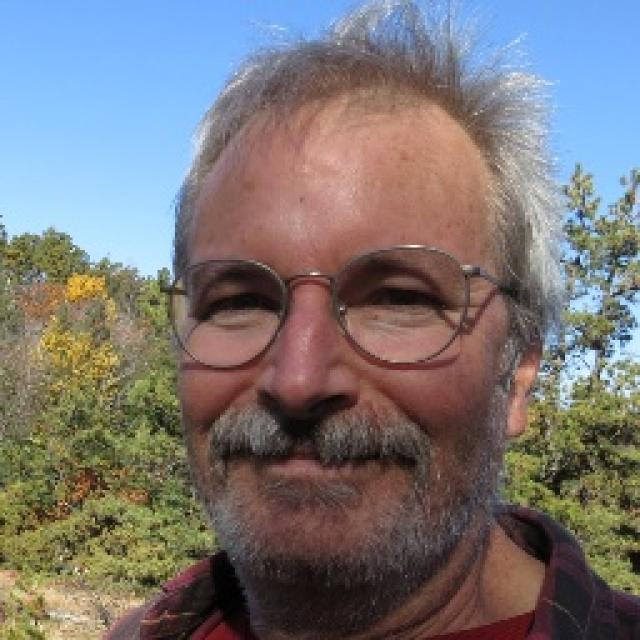earlobe: (504, 403, 529, 438)
eye: (363, 283, 440, 316), (212, 290, 272, 322)
nose: (247, 394, 358, 437)
wholeear: (502, 334, 542, 438)
